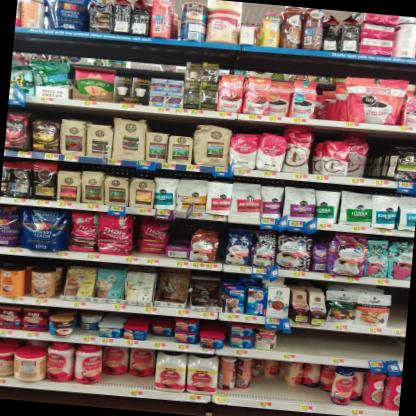empty_space: (365, 129, 393, 179), (388, 286, 410, 328), (321, 330, 348, 359), (346, 332, 373, 361), (275, 326, 302, 354), (371, 334, 396, 364), (300, 328, 323, 356), (394, 336, 405, 365)
